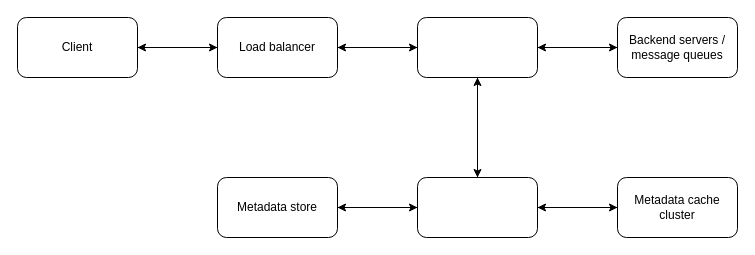
Some shapes in this 755 by 255 pixel diagram are drawn without their labels. Here are the shapes that lost their labels. From the top down, the centre of each, then its label:
(x=477, y=47): Frontend servers
(x=477, y=207): Metadata service
